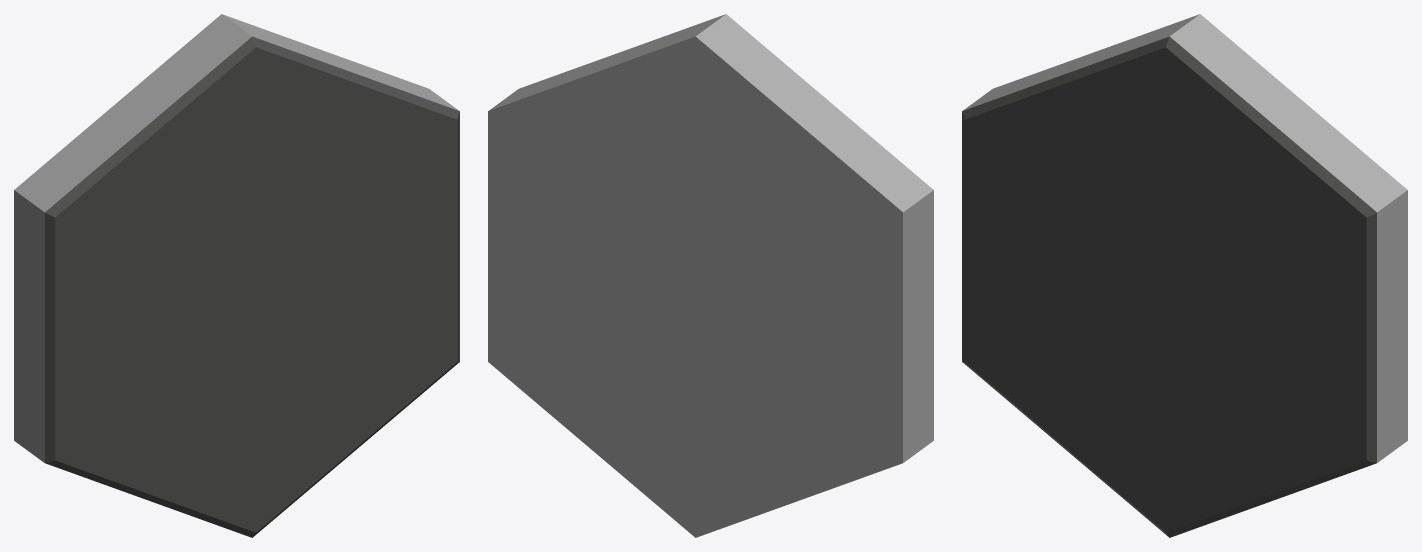
Rendered from Hexagon.fbx.
3 views of the same model, side by side, from view 1: azimuth 30°, elevation 25°; view 2: azimuth 150°, elevation 25°; view 3: azimuth 330°, elevation 25° (orthographic).
Visible parts, largest first — view 1: HEXAGON; view 2: HEXAGON; view 3: HEXAGON.
Boxes of the visible parts, x1,y1,x2,y2 form: HEXAGON: (14,14,459,537); HEXAGON: (488,14,933,537); HEXAGON: (962,14,1407,537).
Size of the model in its own units: 173 by 200 by 24.96.
